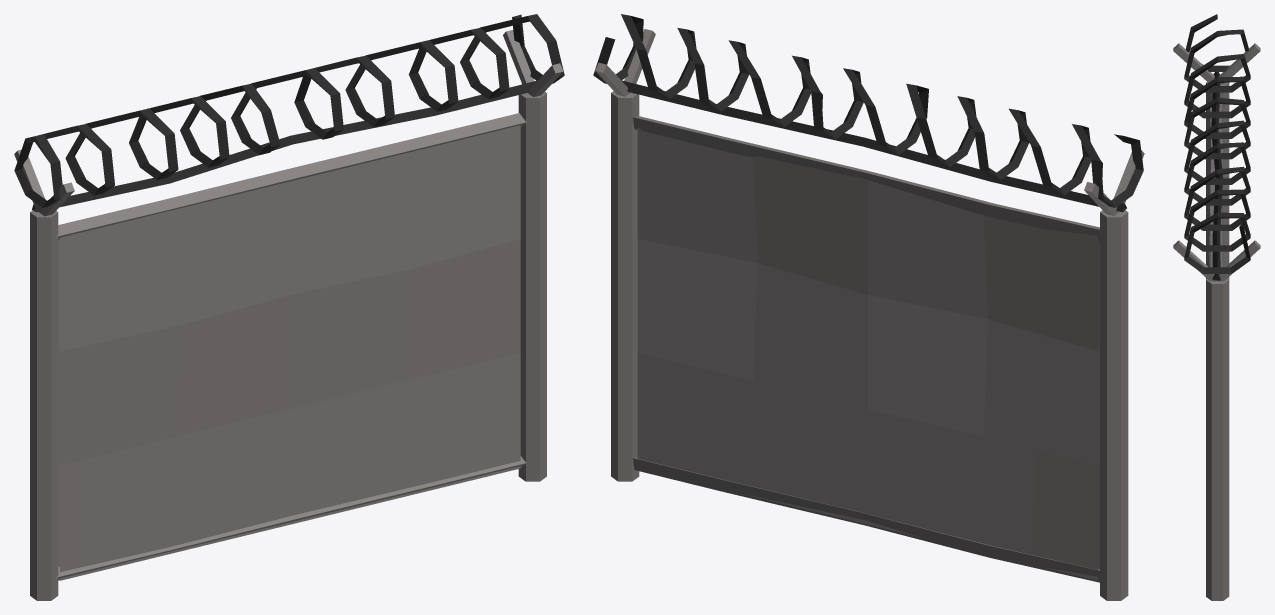
Rendered from fence-wire.glb.
3 renders of one model, left to right at view 1: azimuth 30°, elevation 25°; view 2: azimuth 150°, elevation 25°; view 3: azimuth 270°, elevation 25°, orthographic. The views are drawn at different scales.
Visible parts, largest first — view 1: fence-wire; view 2: fence-wire; view 3: fence-wire.
Boxes of the visible parts, box(x1,y1,x2,y2) form: fence-wire: box(14, 14, 564, 600); fence-wire: box(593, 14, 1144, 600); fence-wire: box(1173, 14, 1260, 600).
Bounding box in the file's own units: 4.19 × 3.61 × 0.7467.
1 material, 1 textured.
